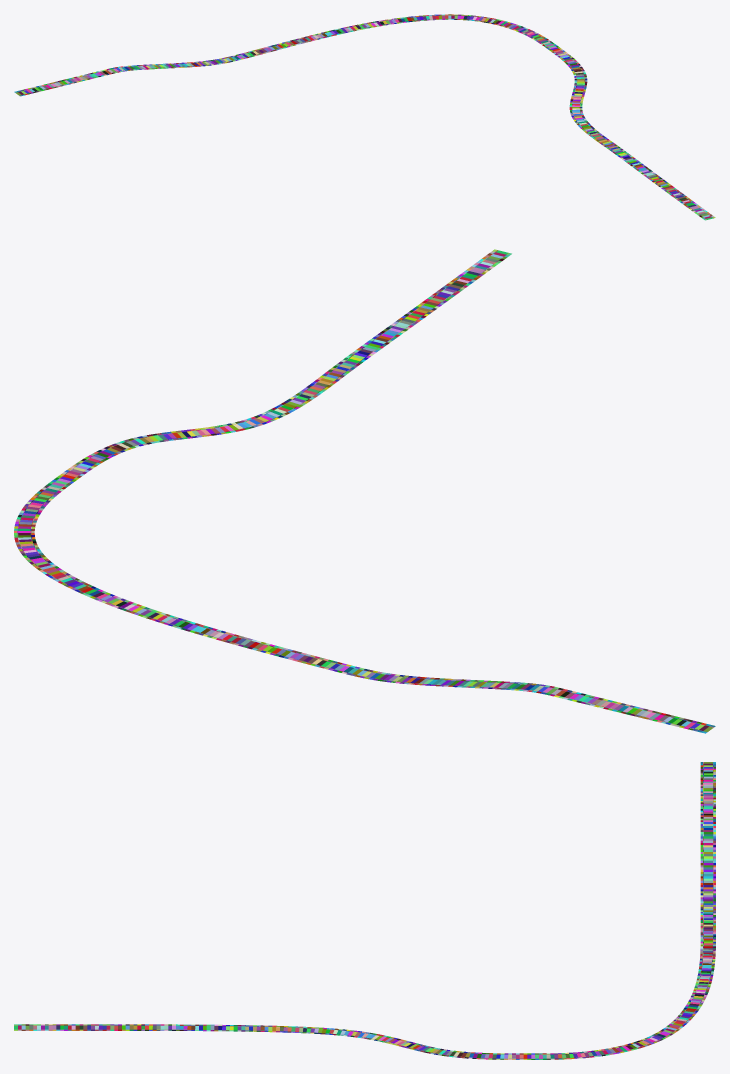
The model's file is lvl_1_track.fbx.
3 renders of one model, top to bottom at view 1: azimuth 30°, elevation 25°; view 2: azimuth 150°, elevation 25°; view 3: azimuth 270°, elevation 25°, orthographic. The views are drawn at different scales.
Parts seen in each view (by area): view 1: inside, outside, curb; view 2: inside, outside, curb; view 3: inside, outside, curb.
Boxes of the visible parts, left/top/right/bottom form: inside: left=15, top=15, right=713, bottom=219; outside: left=14, top=14, right=715, bottom=220; curb: left=16, top=15, right=713, bottom=219; inside: left=18, top=250, right=713, bottom=731; outside: left=14, top=249, right=715, bottom=733; curb: left=17, top=250, right=713, bottom=732; inside: left=14, top=762, right=712, bottom=1058; outside: left=14, top=762, right=715, bottom=1059; curb: left=14, top=762, right=713, bottom=1058.
Bounding box in the file's own units: 86 × 3.33 × 91.
